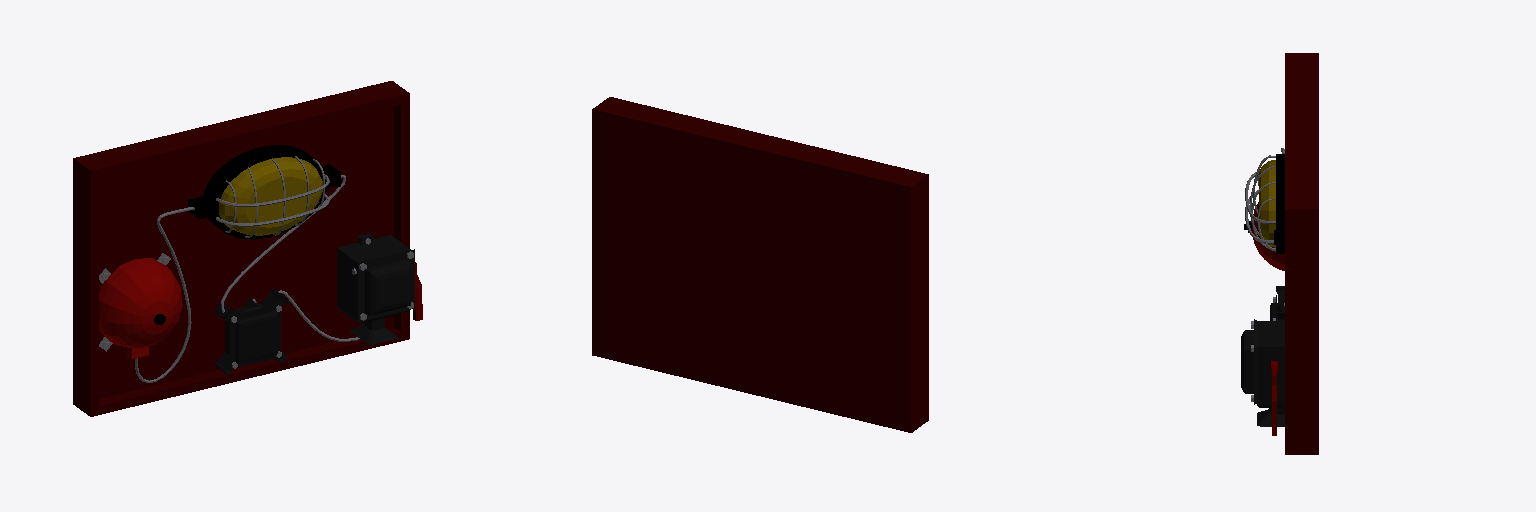
File: tablo.obj
3 views of the same model, side by side, from view 1: azimuth 30°, elevation 25°; view 2: azimuth 150°, elevation 25°; view 3: azimuth 270°, elevation 25° (orthographic).
Visible parts, largest first — view 1: Cube_Cube.001, Cube.001_Cube.003, Sphere.001, Circle_Circle.001, Cube.002_Cube.005, Circle_Circle.022, BezierCurve.002; view 2: Cube_Cube.001; view 3: Cube_Cube.001, Cube.001_Cube.003, Circle_Circle.001, Circle_Circle.022.
Part boxes in pixels (left/top/right/bottom): Cube_Cube.001: left=73, top=81, right=409, bottom=416; Cube.001_Cube.003: left=337, top=233, right=415, bottom=344; Sphere.001: left=99, top=258, right=182, bottom=359; Circle_Circle.001: left=219, top=157, right=322, bottom=235; Cube.002_Cube.005: left=214, top=288, right=288, bottom=375; Circle_Circle.022: left=188, top=145, right=340, bottom=239; BezierCurve.002: left=135, top=207, right=194, bottom=382; Cube_Cube.001: left=592, top=97, right=928, bottom=432; Cube_Cube.001: left=1285, top=53, right=1318, bottom=454; Cube.001_Cube.003: left=1241, top=319, right=1284, bottom=426; Circle_Circle.001: left=1259, top=160, right=1275, bottom=247; Circle_Circle.022: left=1274, top=154, right=1284, bottom=253.
Bounding box in the file's own units: 3.34 × 2.41 × 0.6987.